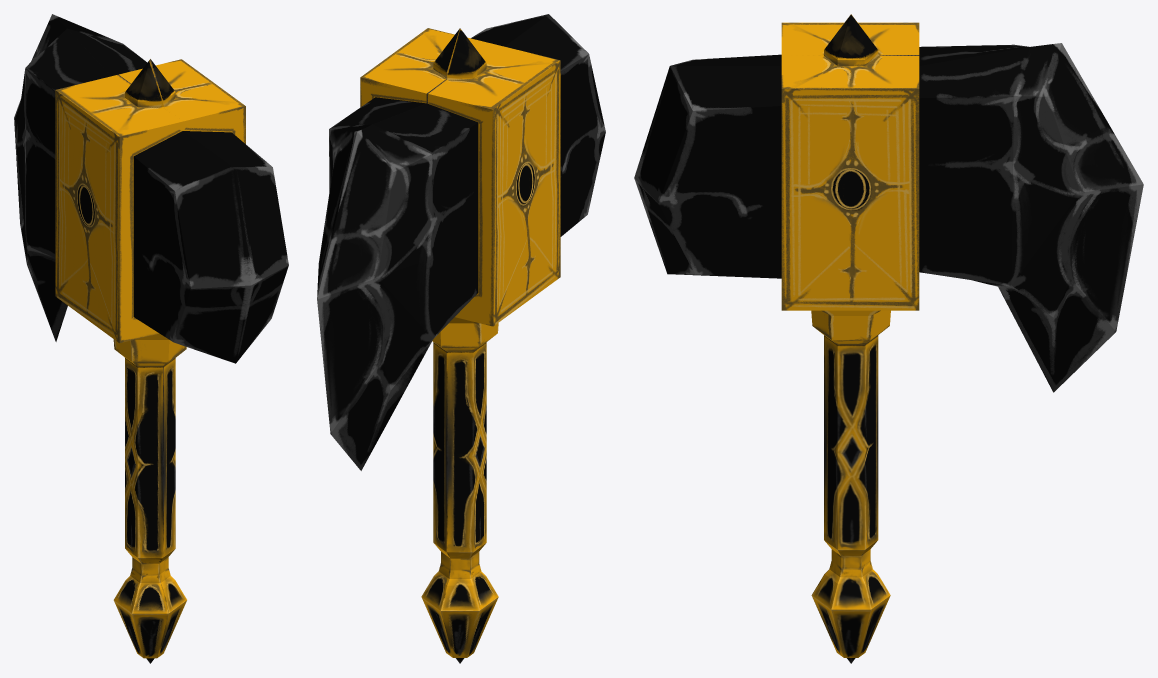
Rendered from ow-battleAxe.glb.
The picture shows the model from 3 angles, left to right: view 1: azimuth 30°, elevation 25°; view 2: azimuth 150°, elevation 25°; view 3: azimuth 270°, elevation 25°; orthographic projection. The views are drawn at different scales.
Parts seen in each view (by area): view 1: Battle Axe; view 2: Battle Axe; view 3: Battle Axe.
Part boxes in pixels (x1,y1,x2,y2): Battle Axe: (14, 14, 288, 663); Battle Axe: (317, 14, 605, 663); Battle Axe: (634, 14, 1143, 663).
Size of the model in its own units: 0.2412 by 1.1 by 0.7843.
1 material, 1 textured.
